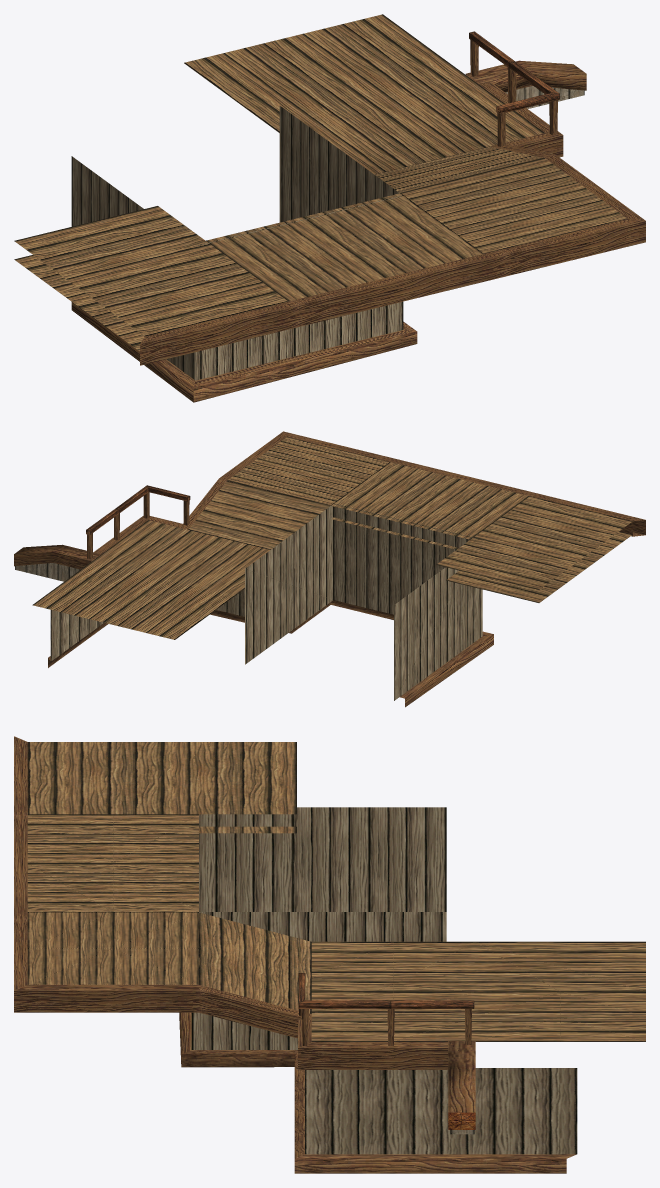
Rendered from LAKETOWN_EXTERIOR_PS_LT_DOCKPARTS7756__GX.fbx.
3 renders of one model, top to bottom at view 1: azimuth 30°, elevation 25°; view 2: azimuth 150°, elevation 25°; view 3: azimuth 270°, elevation 25°, orthographic. The views are drawn at different scales.
Visible parts, largest first — view 1: LAKETOWN_EXTERIOR_PS_LT_DOCKPARTS7756__GX; view 2: LAKETOWN_EXTERIOR_PS_LT_DOCKPARTS7756__GX; view 3: LAKETOWN_EXTERIOR_PS_LT_DOCKPARTS7756__GX.
Part boxes in pixels (left/top/right/bottom): LAKETOWN_EXTERIOR_PS_LT_DOCKPARTS7756__GX: left=14, top=14, right=645, bottom=402; LAKETOWN_EXTERIOR_PS_LT_DOCKPARTS7756__GX: left=14, top=431, right=645, bottom=707; LAKETOWN_EXTERIOR_PS_LT_DOCKPARTS7756__GX: left=14, top=736, right=645, bottom=1173.
Bounding box in the file's own units: 160001 × 37651 × 129246.
Materials: 7 (7 with a texture image).
